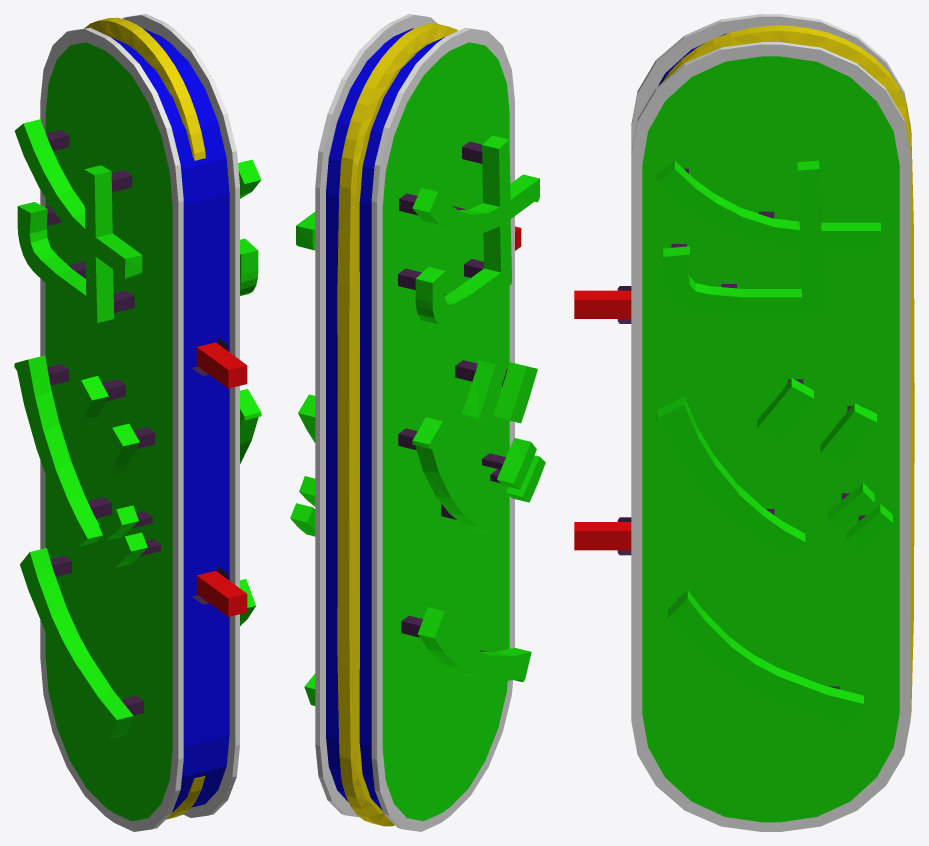
Rendered from JapanCasinoSign.fbx.
3 views of the same model, side by side, from view 1: azimuth 30°, elevation 25°; view 2: azimuth 150°, elevation 25°; view 3: azimuth 270°, elevation 25° (orthographic).
Parts seen in each view (by area): view 1: path22; view 2: path22; view 3: path22.
Boxes of the visible parts, x1,y1,x2,y2 form: path22: (14, 14, 261, 831); path22: (290, 14, 545, 831); path22: (574, 14, 914, 831).
Bounding box in the file's own units: 126 × 694 × 271.
